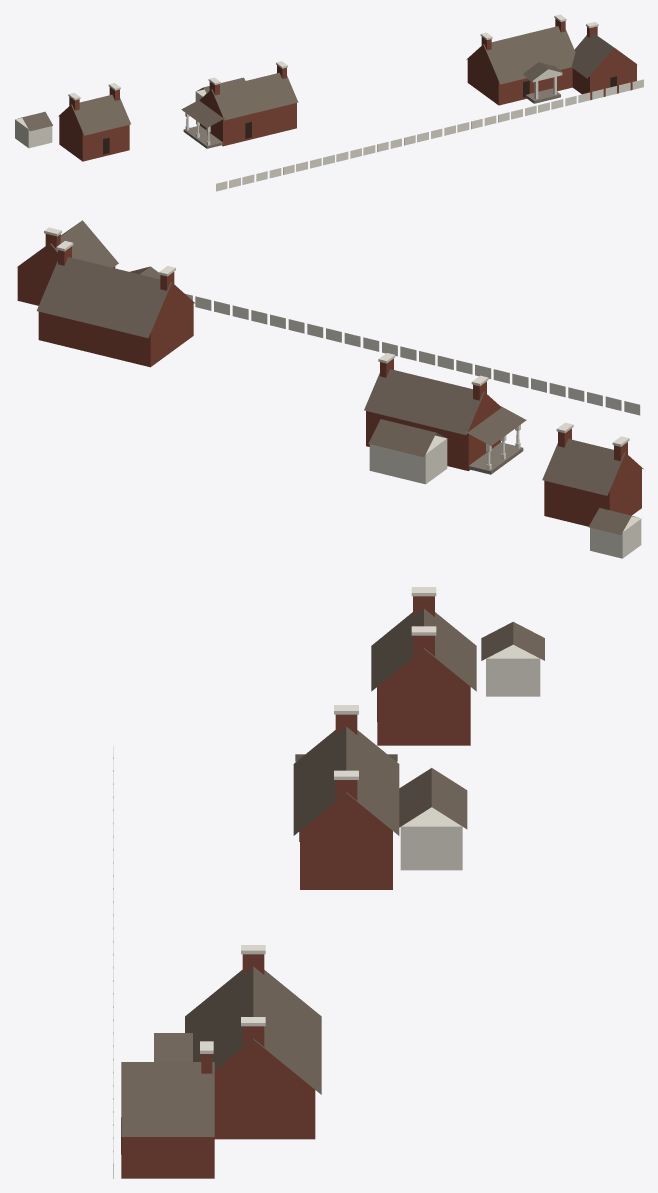
Rendered from territorial-restoration-houses.glb.
3 renders of one model, top to bottom at view 1: azimuth 30°, elevation 25°; view 2: azimuth 150°, elevation 25°; view 3: azimuth 270°, elevation 25°, orthographic. The views are drawn at different scales.
Visible parts, largest first — view 1: territorial_shingle, territorial_brick, territorial_trim, territorial_wood, territorial_base, territorial_door; view 2: territorial_shingle, territorial_brick, territorial_trim, territorial_wood, territorial_base; view 3: territorial_shingle, territorial_brick, territorial_wood, territorial_trim.
Boxes of the visible parts, left/top/right/bottom form: territorial_shingle: left=18, top=26, right=634, bottom=135; territorial_brick: left=59, top=18, right=636, bottom=161; territorial_trim: left=68, top=14, right=643, bottom=191; territorial_wood: left=15, top=89, right=206, bottom=148; territorial_base: left=183, top=88, right=560, bottom=148; territorial_door: left=103, top=76, right=616, bottom=154; territorial_shingle: left=19, top=220, right=643, bottom=534; territorial_brick: left=17, top=234, right=641, bottom=526; territorial_trim: left=44, top=227, right=640, bottom=470; territorial_wood: left=369, top=435, right=641, bottom=558; territorial_base: left=468, top=442, right=523, bottom=474; territorial_shingle: left=121, top=609, right=544, bottom=1136; territorial_brick: left=121, top=596, right=470, bottom=1178; territorial_wood: left=400, top=644, right=540, bottom=870; territorial_trim: left=113, top=587, right=436, bottom=1178.
Size of the model in its own units: 77.7 by 8.25 by 27.85.
